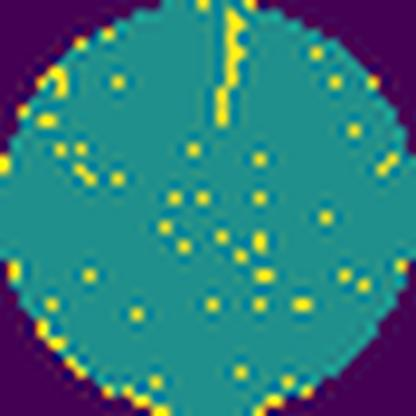Scratch: (212, 6, 250, 132)
